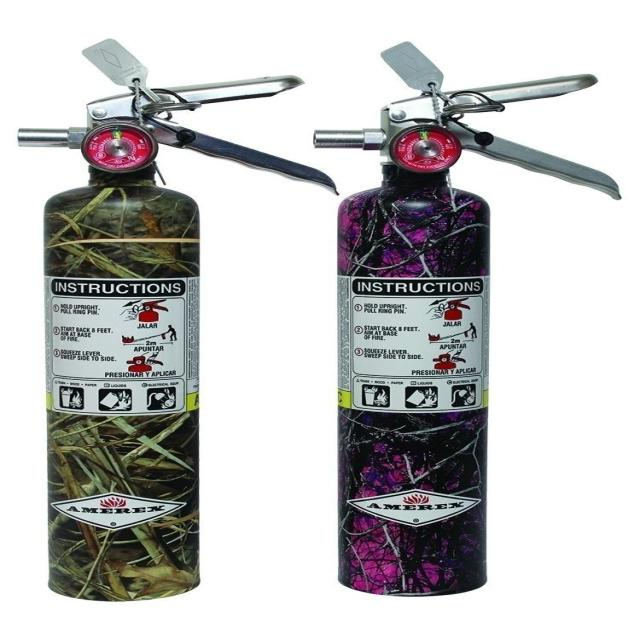fire_extinguisher: (14, 34, 344, 606), (309, 35, 625, 602)
